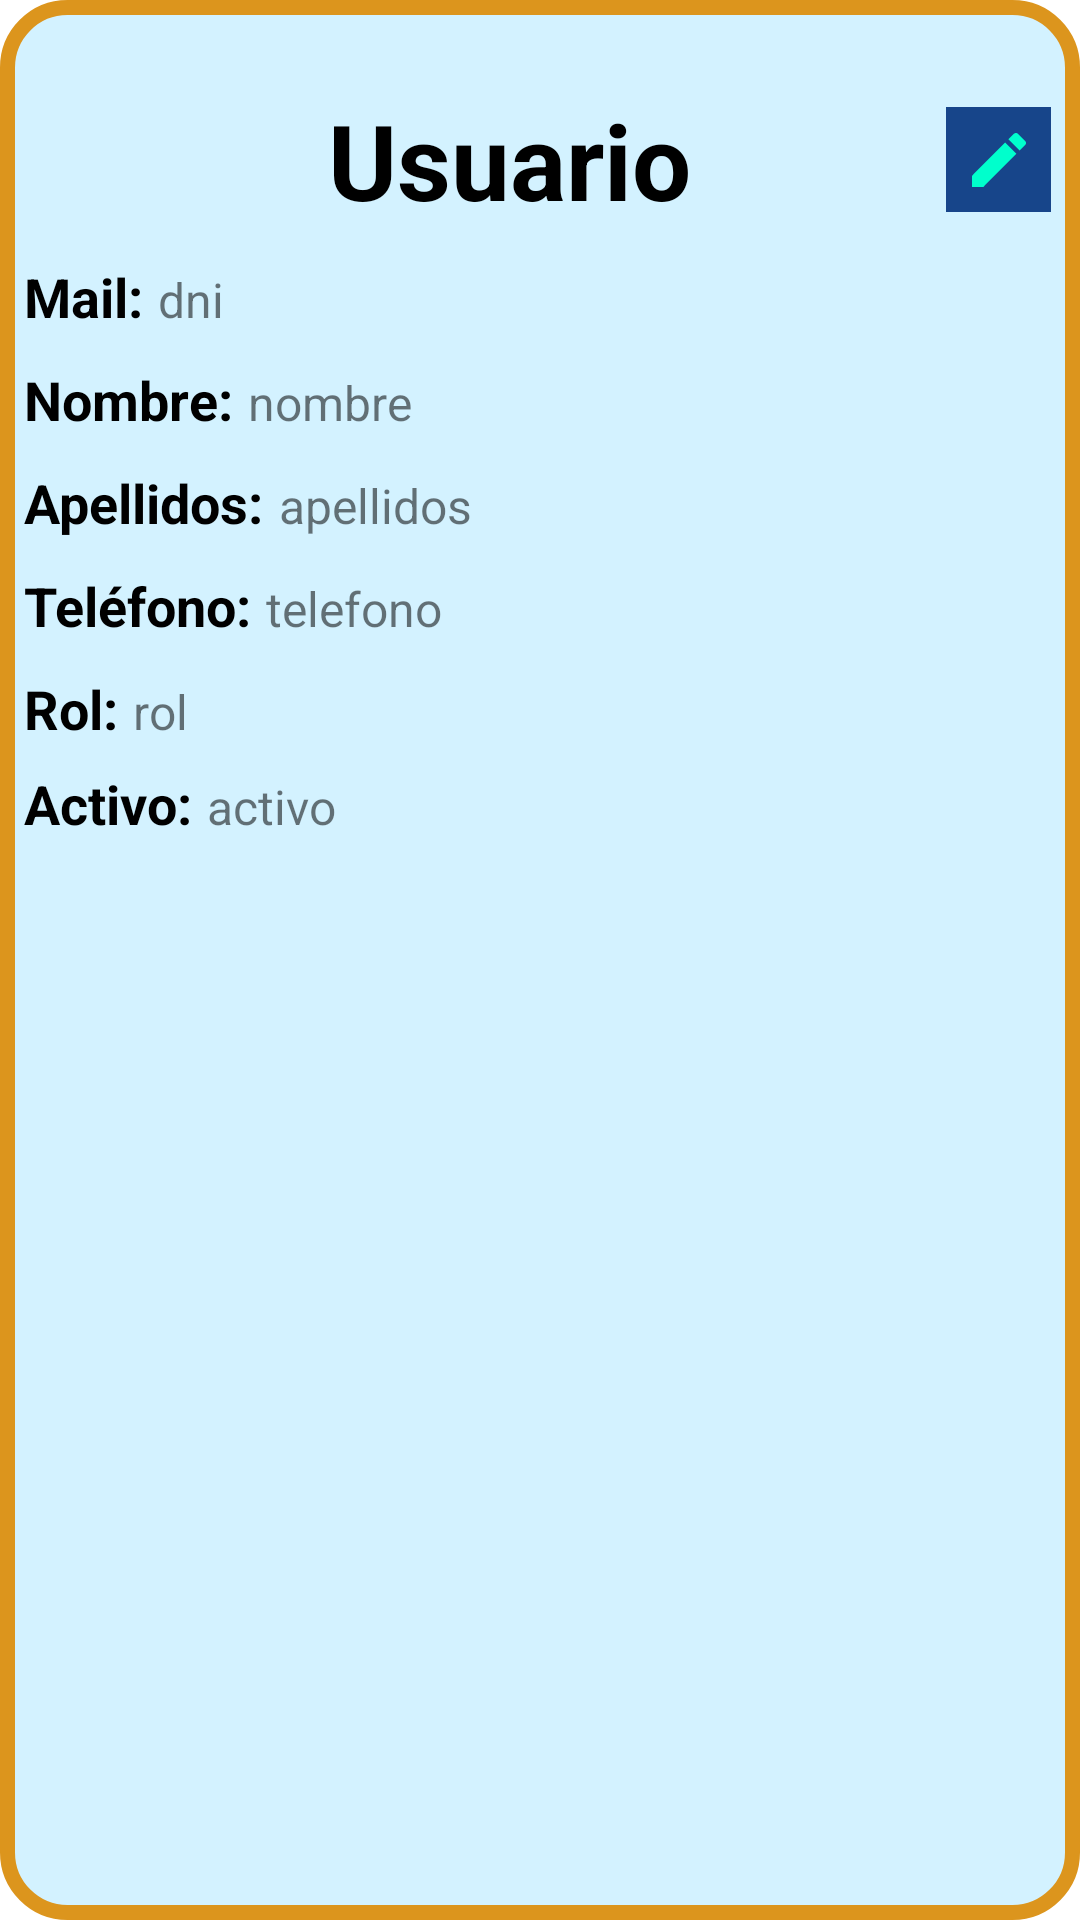

Icons on this 1080w x 1920h Android screen, each with its box as (x1, y1, x2, y2):
edit: (946, 107, 1051, 212)
